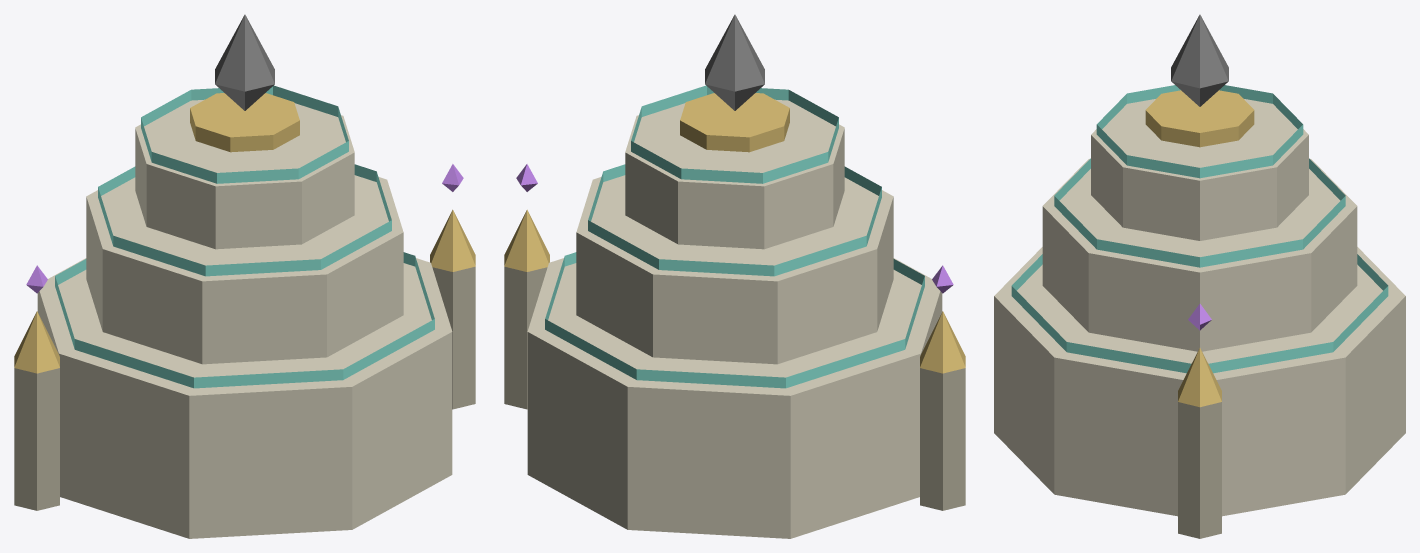
The model's file is conservatory.obj.
The picture shows the model from 3 angles, left to right: view 1: azimuth 30°, elevation 25°; view 2: azimuth 150°, elevation 25°; view 3: azimuth 270°, elevation 25°; orthographic projection. The views are drawn at different scales.
Visible parts, largest first — view 1: conservatory; view 2: conservatory; view 3: conservatory.
Boxes of the visible parts, box(x1,y1,x2,y2) form: conservatory: box(14, 14, 475, 538); conservatory: box(504, 14, 965, 538); conservatory: box(994, 14, 1405, 538).
Bounding box in the file's own units: 8.44 × 8.48 × 6.8.
